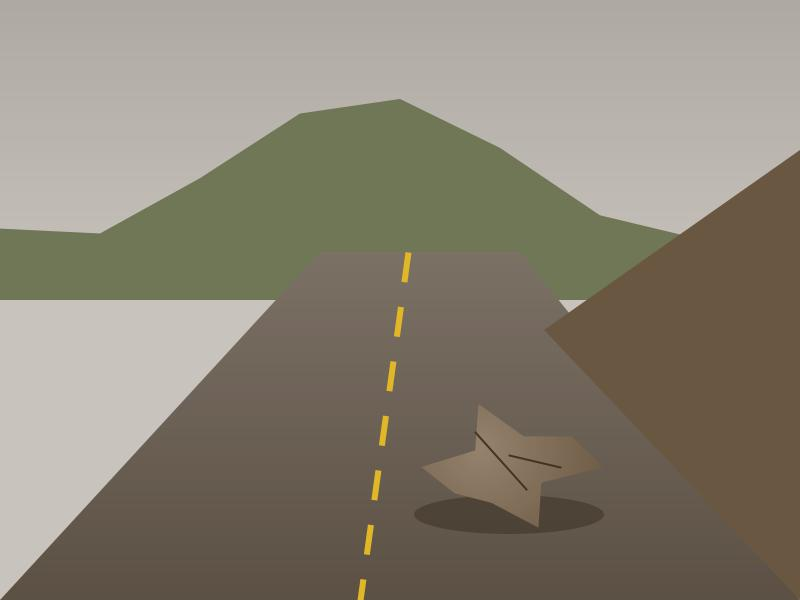ROAD_OBSTACLE: (424, 410, 594, 524)
